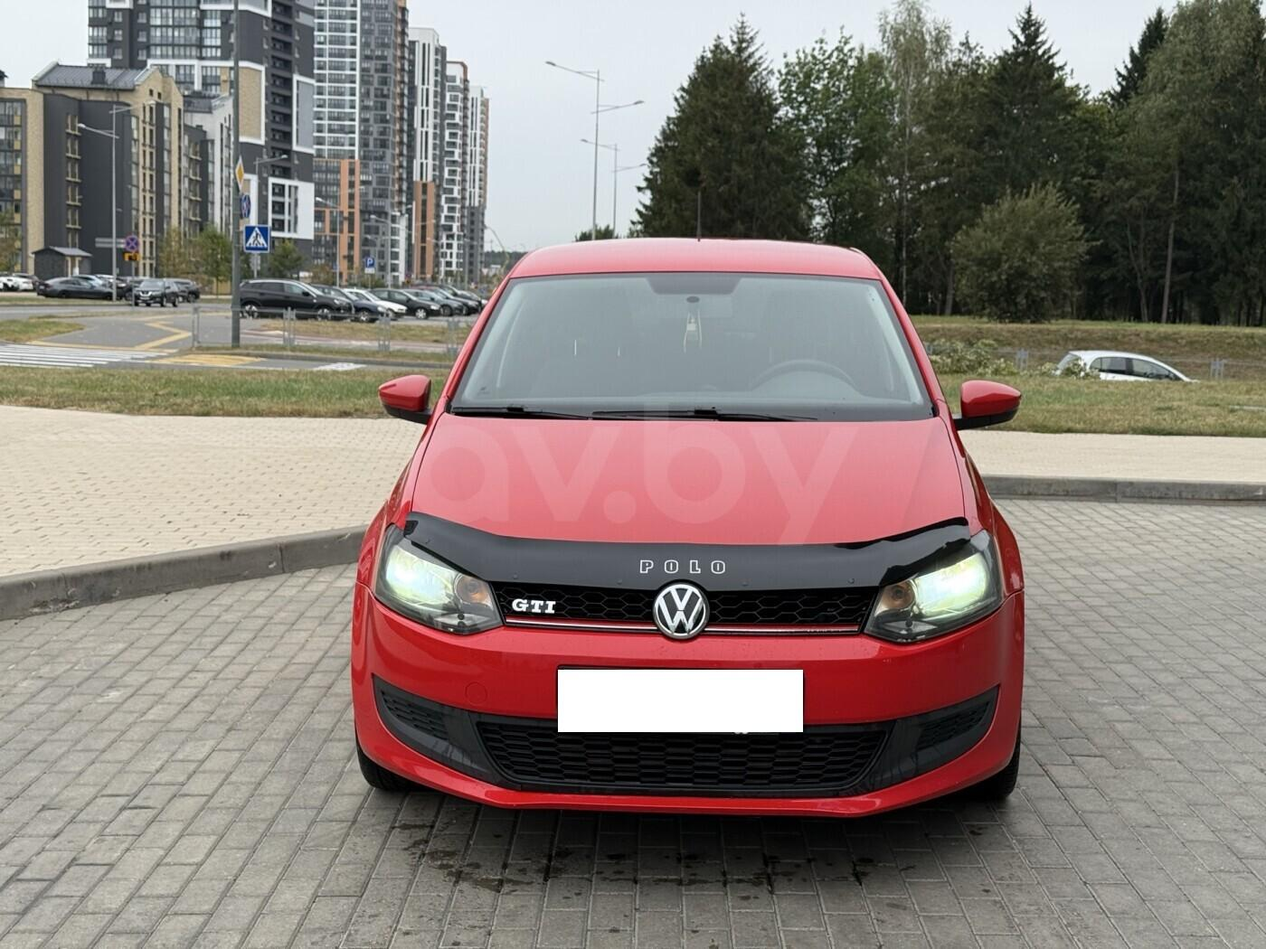Polo_2009-2015: (318, 206, 1046, 840)
